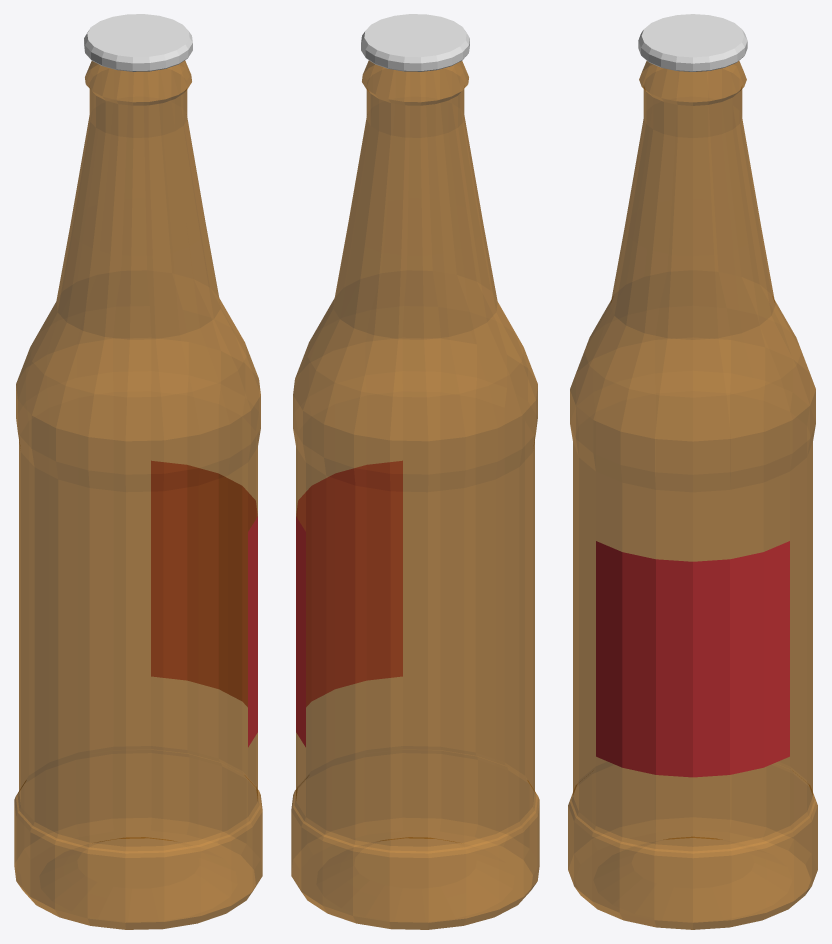
File: Bier.fbx
3 renders of one model, left to right at view 1: azimuth 30°, elevation 25°; view 2: azimuth 150°, elevation 25°; view 3: azimuth 270°, elevation 25°, orthographic.
Parts seen in each view (by area): view 1: Cylinder; view 2: Cylinder; view 3: Cylinder.
Part boxes in pixels (left/top/right/bottom): Cylinder: left=14, top=14, right=262, bottom=929; Cylinder: left=291, top=14, right=539, bottom=929; Cylinder: left=568, top=14, right=817, bottom=929.
Bounding box in the file's own units: 231 × 862 × 231.
